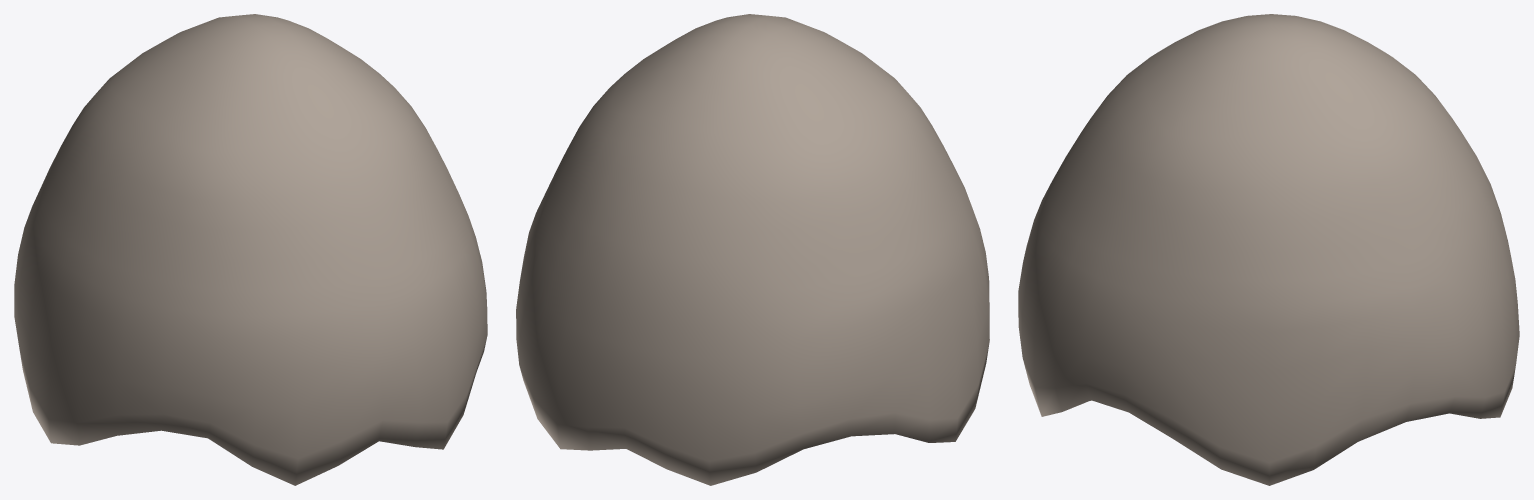
File: broke_egg_2.fbx
3 views of the same model, side by side, from view 1: azimuth 30°, elevation 25°; view 2: azimuth 150°, elevation 25°; view 3: azimuth 270°, elevation 25° (orthographic).
Visible parts, largest first — view 1: pasted__egg; view 2: pasted__egg; view 3: pasted__egg.
Part boxes in pixels (box(x1,y1,x2,y2)): pasted__egg: box(14, 14, 487, 485); pasted__egg: box(516, 14, 989, 485); pasted__egg: box(1018, 14, 1519, 485).
Bounding box in the file's own units: 0.4626 × 0.3983 × 0.4947.
